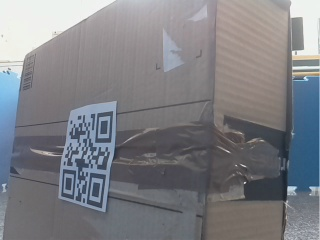caja: (21, 4, 270, 232)
